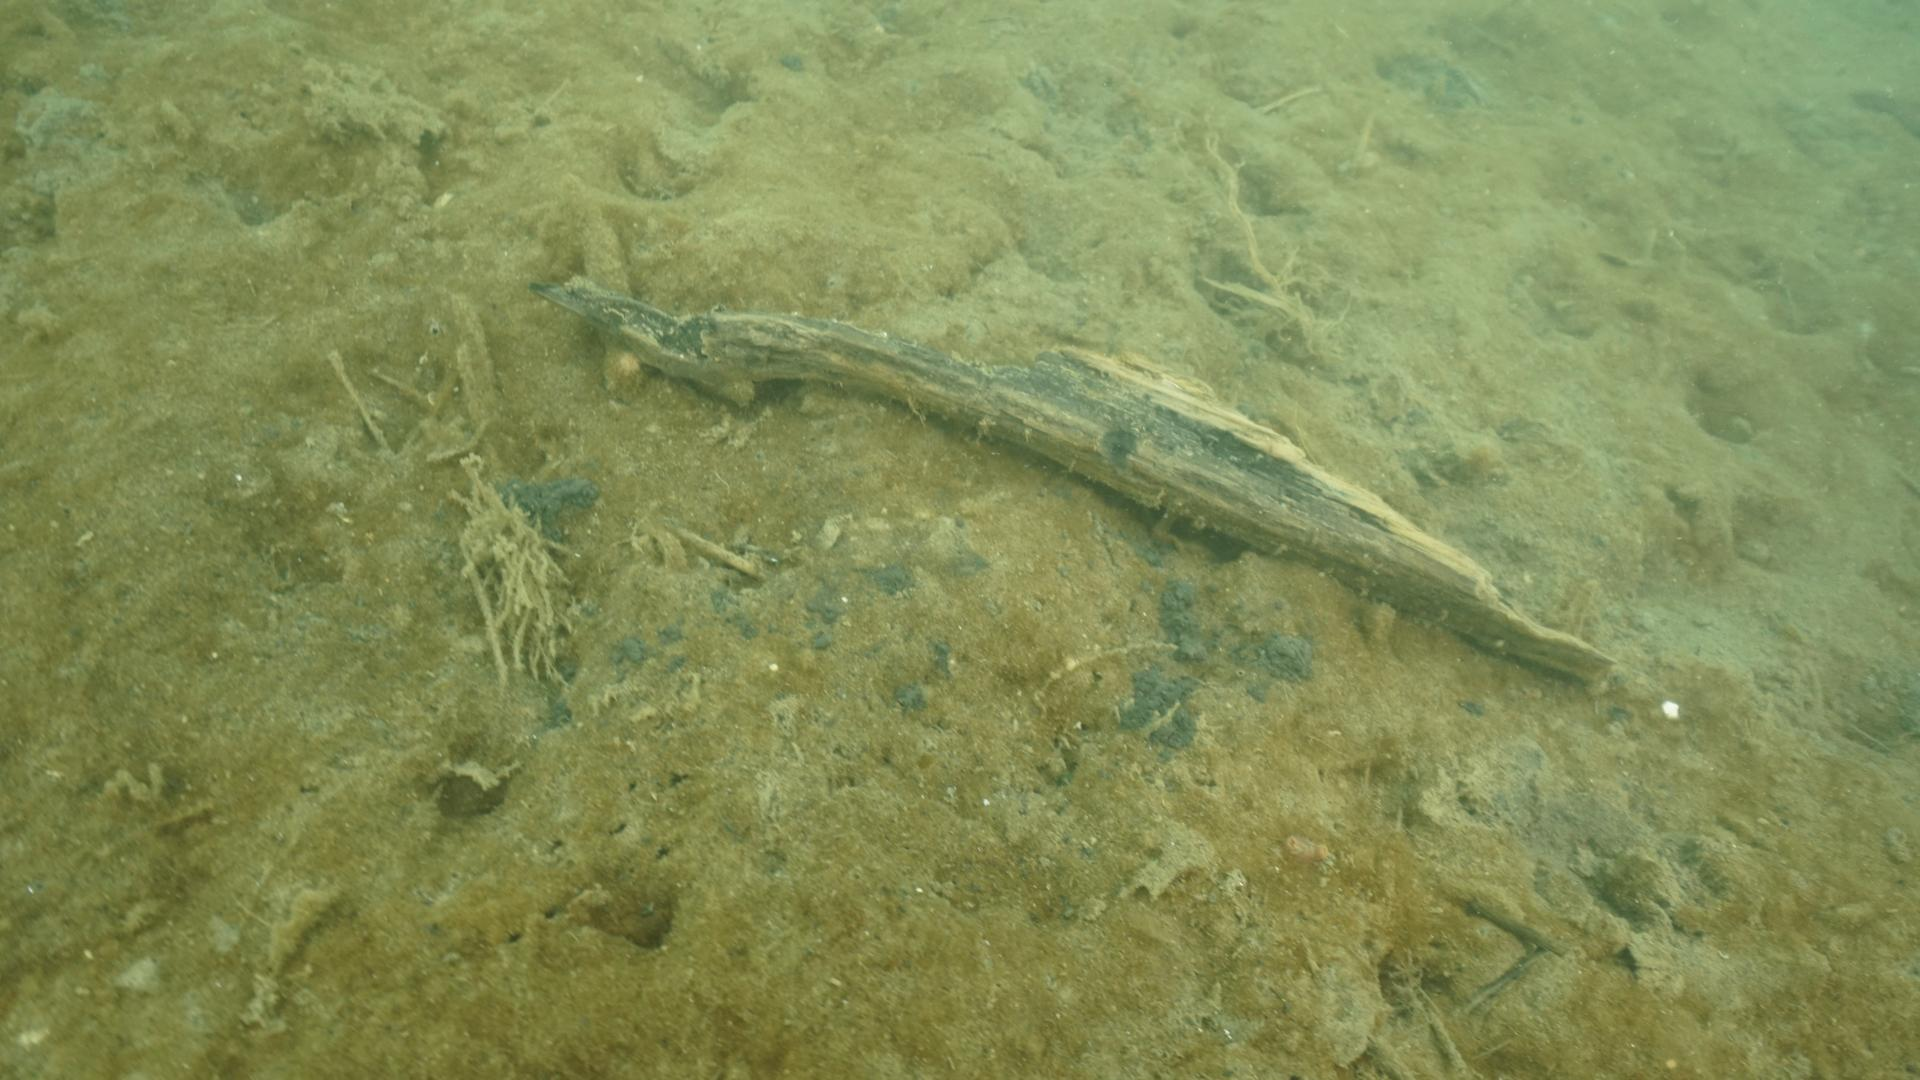wood: (526, 272, 1619, 686)
